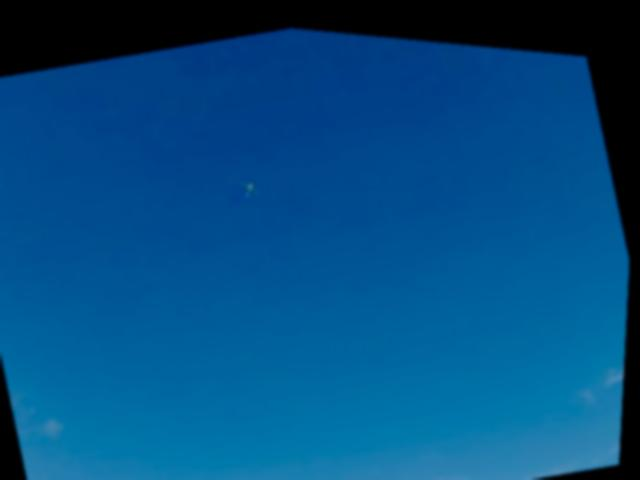uav: (234, 165, 269, 201)
